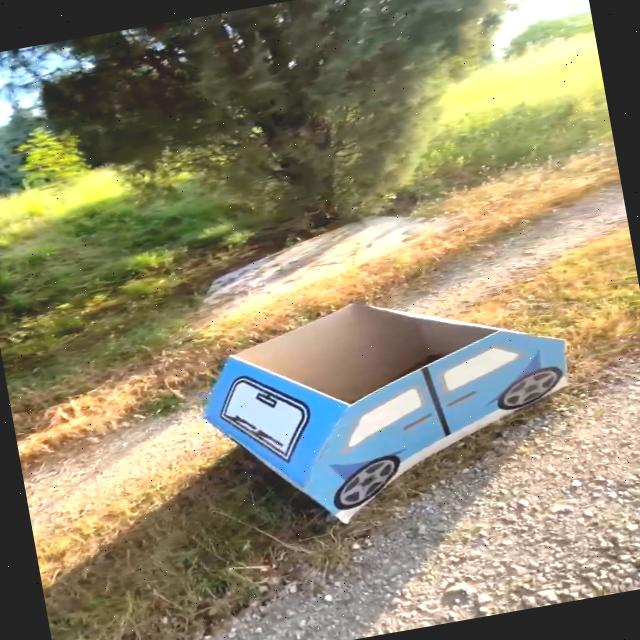blue_car: (114, 236, 629, 590)
